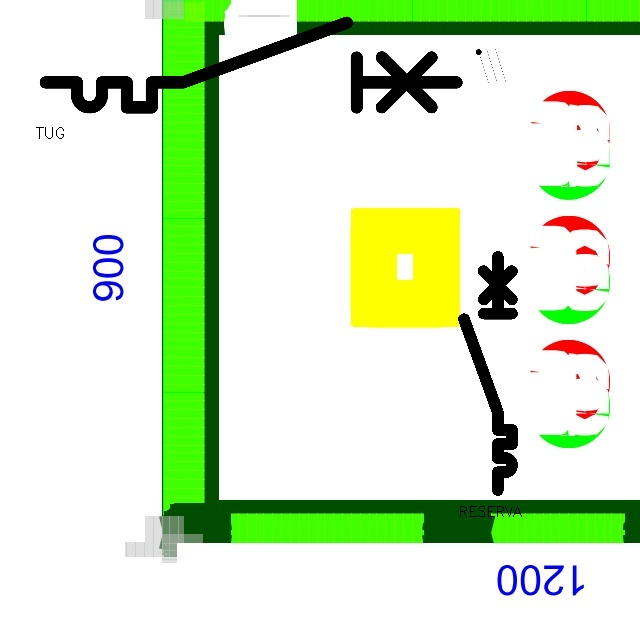interruptor_termomagnetico: (35, 12, 467, 118), (458, 251, 518, 496)
